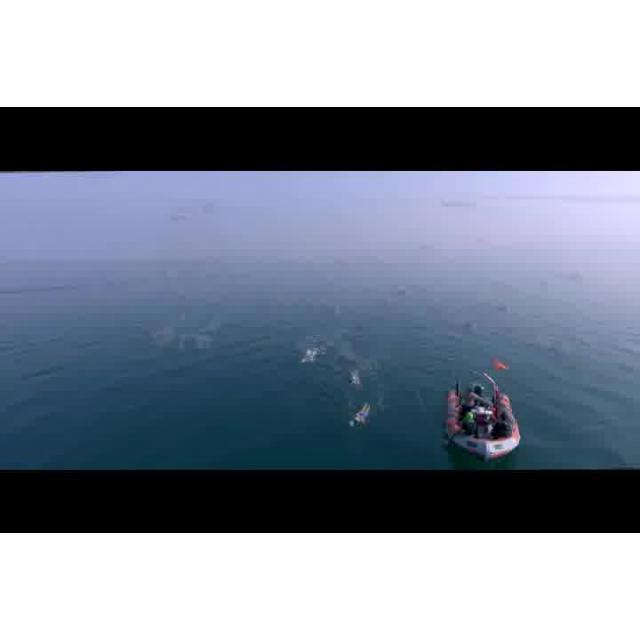human: (351, 402, 372, 429)
